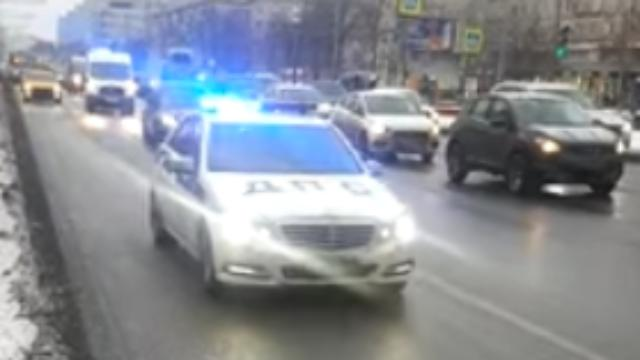ambulance: (83, 51, 138, 117)
non emergency car: (448, 93, 629, 203), (333, 88, 443, 168), (19, 69, 67, 107)
police car: (151, 105, 423, 313)
